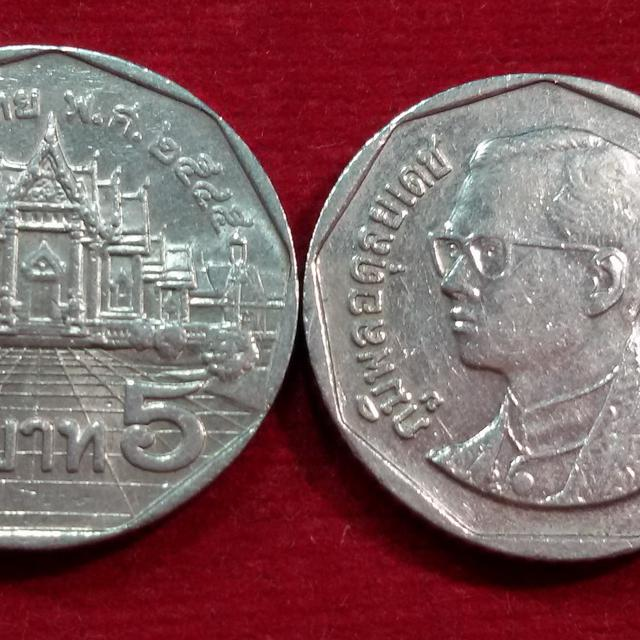5-baht: (300, 59, 640, 571), (0, 29, 307, 566)
